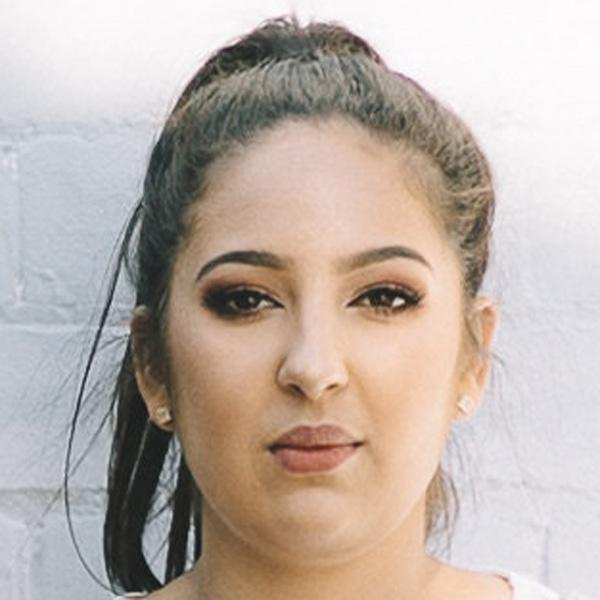Eyes: (199, 274, 289, 331), (336, 274, 430, 328)
